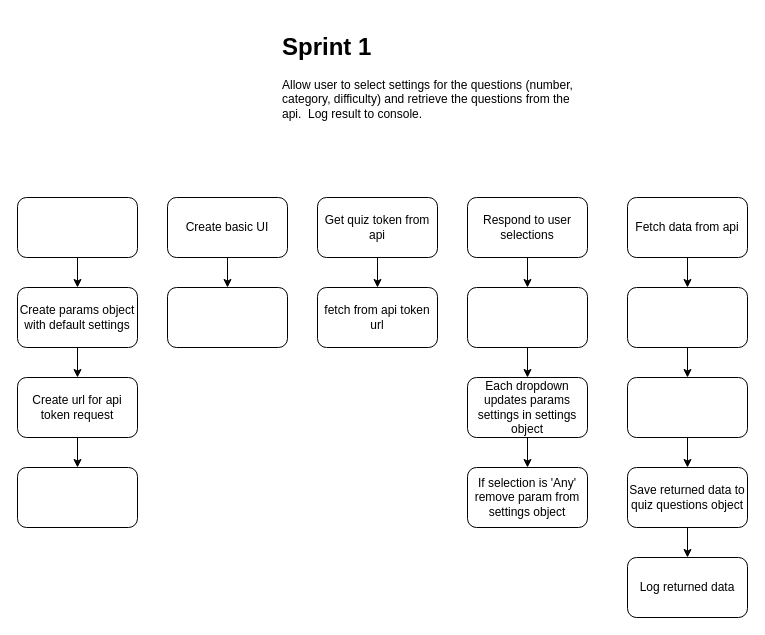
The diagram is 765 pixels wide and 635 high, and some of its shapes have lost their labels. The box of each missing label's shape, as (x1, y1, x2, y2) in pixels:
Build param string from settings object: (626, 286, 748, 348)
Copy select dropdown elements from Trivia API: (166, 286, 288, 348)
Create url for api quiz data fetch: (16, 466, 138, 528)
Fetch from url using param string: (626, 376, 748, 438)
Initialise variables: (16, 196, 138, 258)
Set event listeners for each select dropdown: (466, 286, 588, 348)
